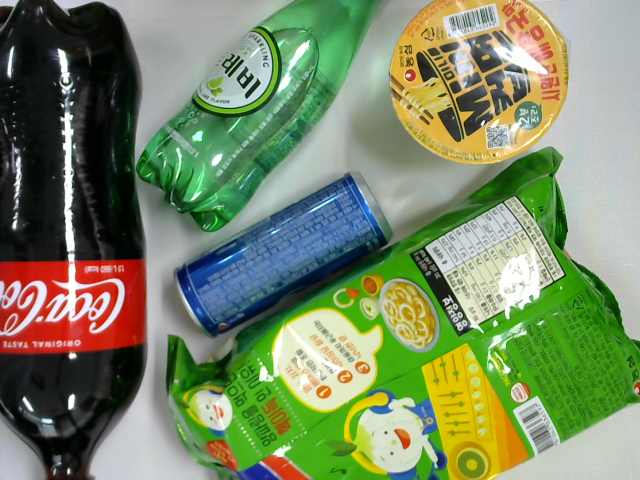Coca_Cola_1.5L: (1, 1, 152, 478)
Hejangmini: (387, 1, 573, 168)
Oninon_Ring: (162, 144, 640, 480)
Pepsi_Cola_Can_250ml: (174, 174, 398, 336)
Treviraim_500ml: (137, 1, 385, 232)
